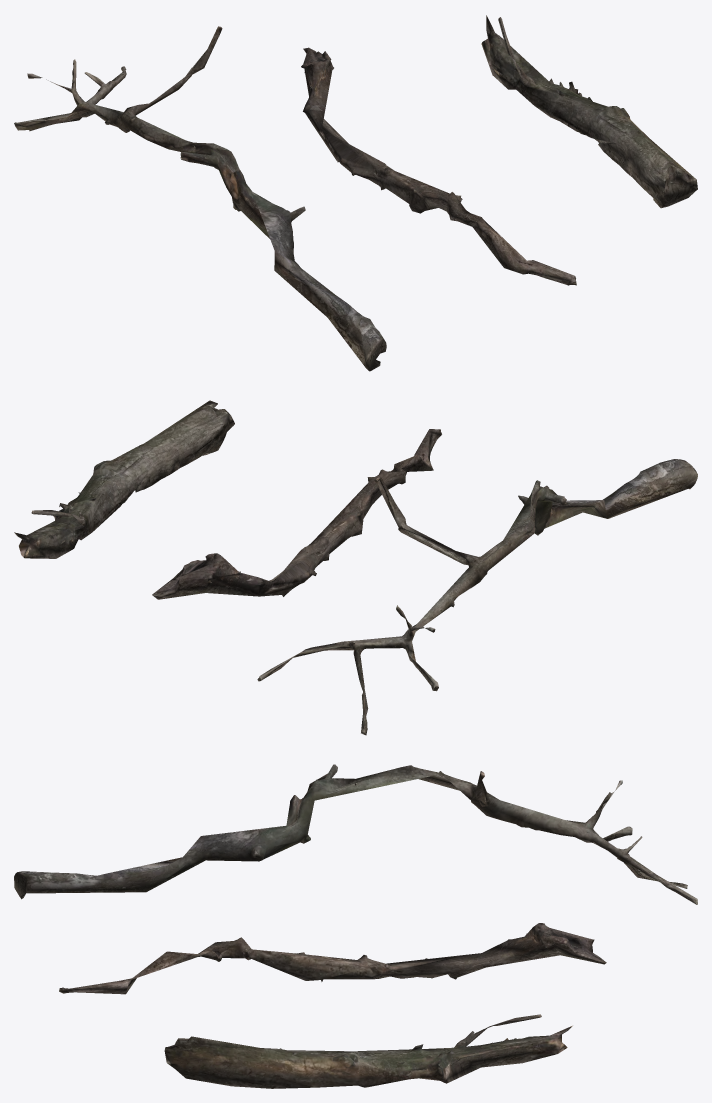
Rendered from branches.glb.
3 renders of one model, top to bottom at view 1: azimuth 30°, elevation 25°; view 2: azimuth 150°, elevation 25°; view 3: azimuth 270°, elevation 25°, orthographic. The views are drawn at different scales.
Visible parts, largest first — view 1: dry_branches_medium_01_a, dry_branches_medium_01_c, dry_branches_medium_01_b; view 2: dry_branches_medium_01_a, dry_branches_medium_01_c, dry_branches_medium_01_b; view 3: dry_branches_medium_01_a, dry_branches_medium_01_c, dry_branches_medium_01_b.
Boxes of the visible parts, x1,y1,x2,y2 form: dry_branches_medium_01_a: (14, 26, 386, 371); dry_branches_medium_01_c: (481, 15, 697, 208); dry_branches_medium_01_b: (301, 47, 576, 285); dry_branches_medium_01_a: (257, 459, 697, 735); dry_branches_medium_01_c: (14, 400, 234, 558); dry_branches_medium_01_b: (152, 429, 441, 599); dry_branches_medium_01_a: (14, 764, 697, 904); dry_branches_medium_01_c: (164, 1014, 572, 1088); dry_branches_medium_01_b: (59, 923, 606, 994).
Size of the model in its own units: 1.05 by 0.34 by 1.3.
1 material, 1 textured.
